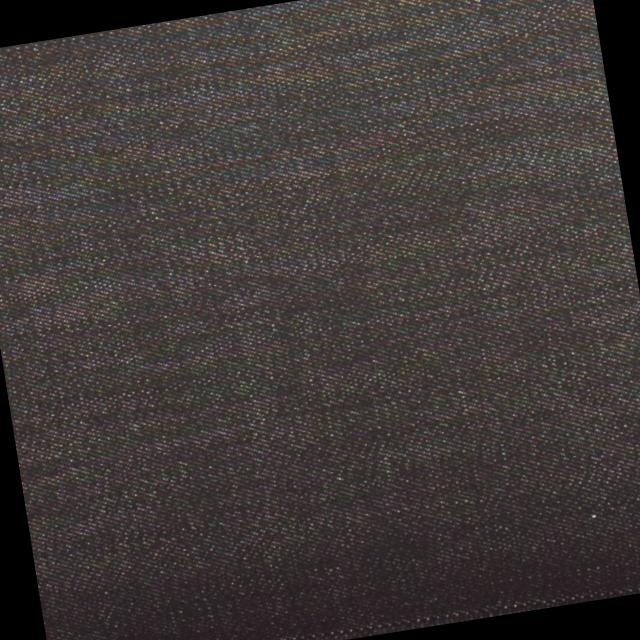Warp_Weft: (51, 567, 640, 640)
